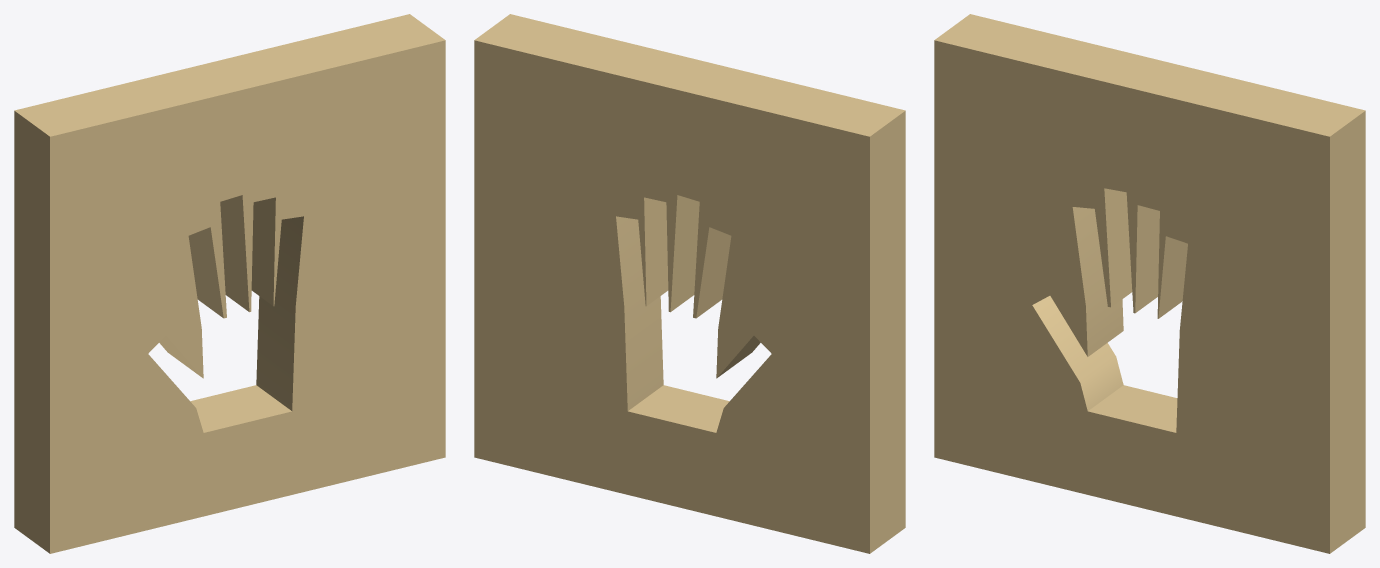
The model's file is door_1.FBX.
3 renders of one model, left to right at view 1: azimuth 30°, elevation 25°; view 2: azimuth 150°, elevation 25°; view 3: azimuth 330°, elevation 25°, orthographic.
Parts seen in each view (by area): view 1: Box009; view 2: Box009; view 3: Box009.
Part boxes in pixels (left/top/right/bottom): Box009: left=14, top=14, right=445, bottom=553; Box009: left=474, top=14, right=905, bottom=553; Box009: left=934, top=14, right=1365, bottom=553.
Bounding box in the file's own units: 160 × 161 × 25.17.
